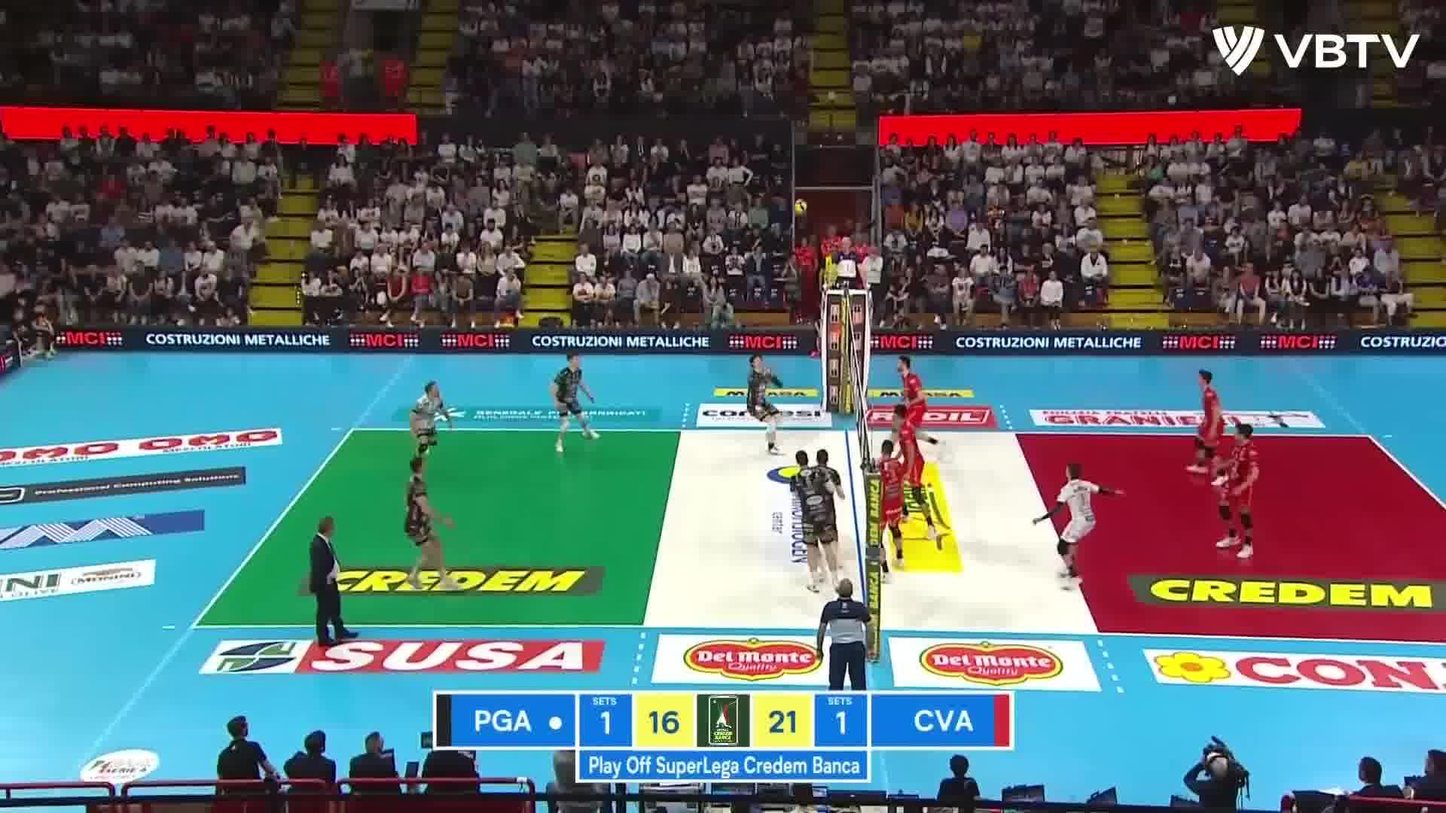balls: (789, 193, 813, 219)
